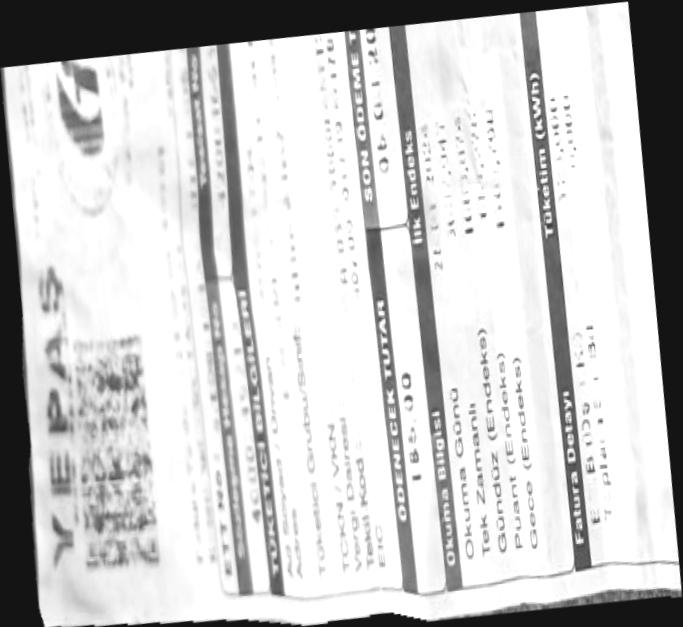electricity-bill: (0, 1, 682, 627)
